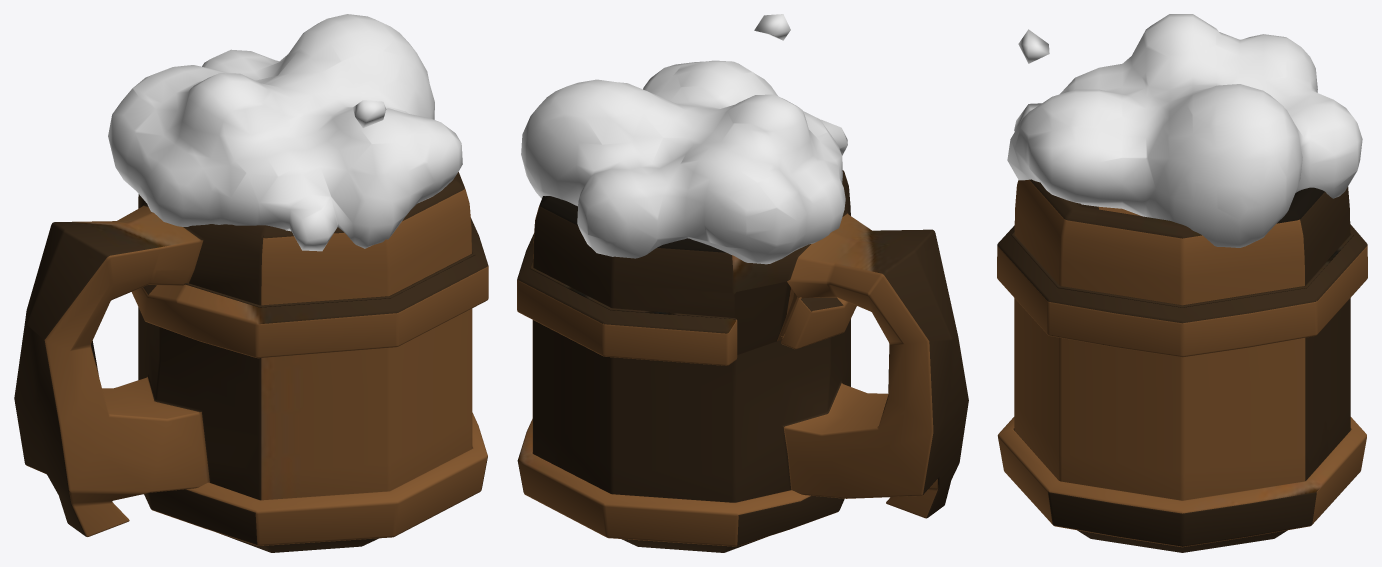
File: BubblyMugModel.fbx
The picture shows the model from 3 angles, left to right: view 1: azimuth 30°, elevation 25°; view 2: azimuth 150°, elevation 25°; view 3: azimuth 270°, elevation 25°; orthographic projection. The views are drawn at different scales.
Visible parts, largest first — view 1: Cube.004, Mball.012; view 2: Cube.004, Mball.012; view 3: Cube.004, Mball.012.
Part boxes in pixels (bbox=[...]): Cube.004: bbox=[14, 172, 488, 552]; Mball.012: bbox=[108, 14, 462, 251]; Cube.004: bbox=[517, 170, 968, 552]; Mball.012: bbox=[521, 14, 847, 264]; Cube.004: bbox=[997, 179, 1367, 552]; Mball.012: bbox=[1007, 14, 1362, 247].
Size of the model in its own units: 0.8243 by 0.6064 by 0.8639.
